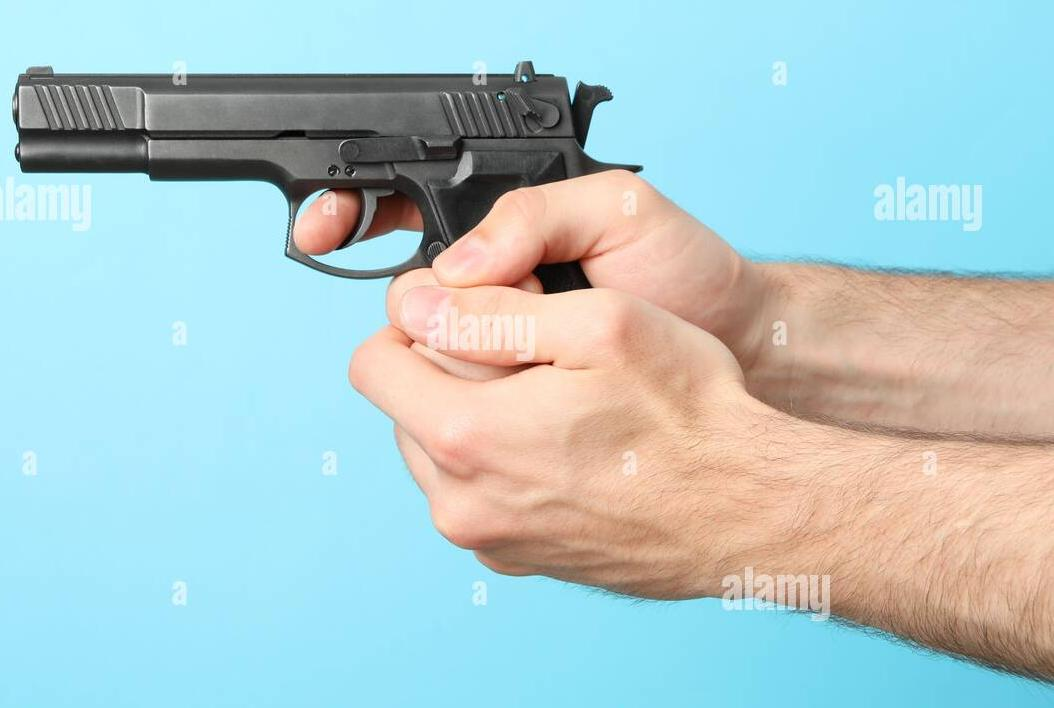gun: (0, 1, 1054, 708)
